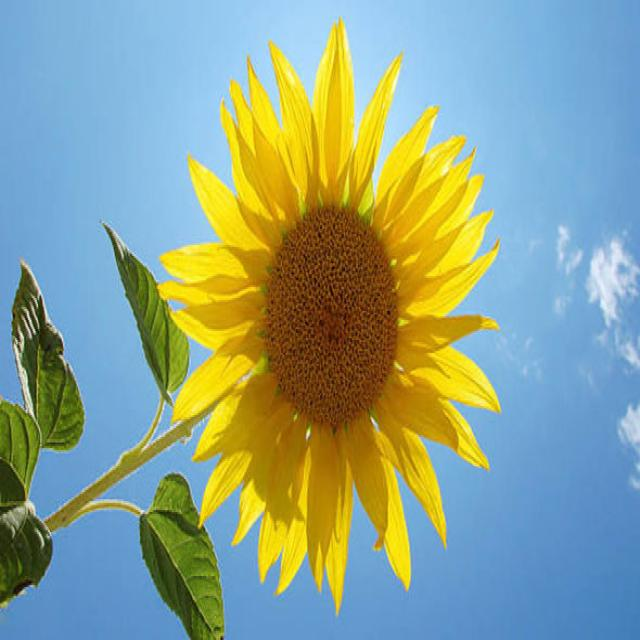sunflower: (148, 10, 513, 623)
